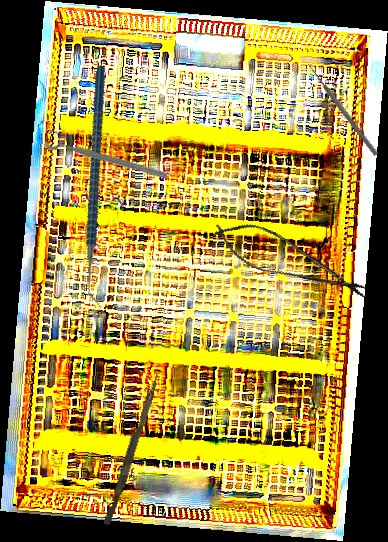Chopper: (13, 64, 186, 311)
Fixation Ring: (43, 128, 171, 182)
Micro Scissor: (205, 210, 376, 311)
Pusher: (103, 370, 161, 527), (305, 62, 380, 157)
